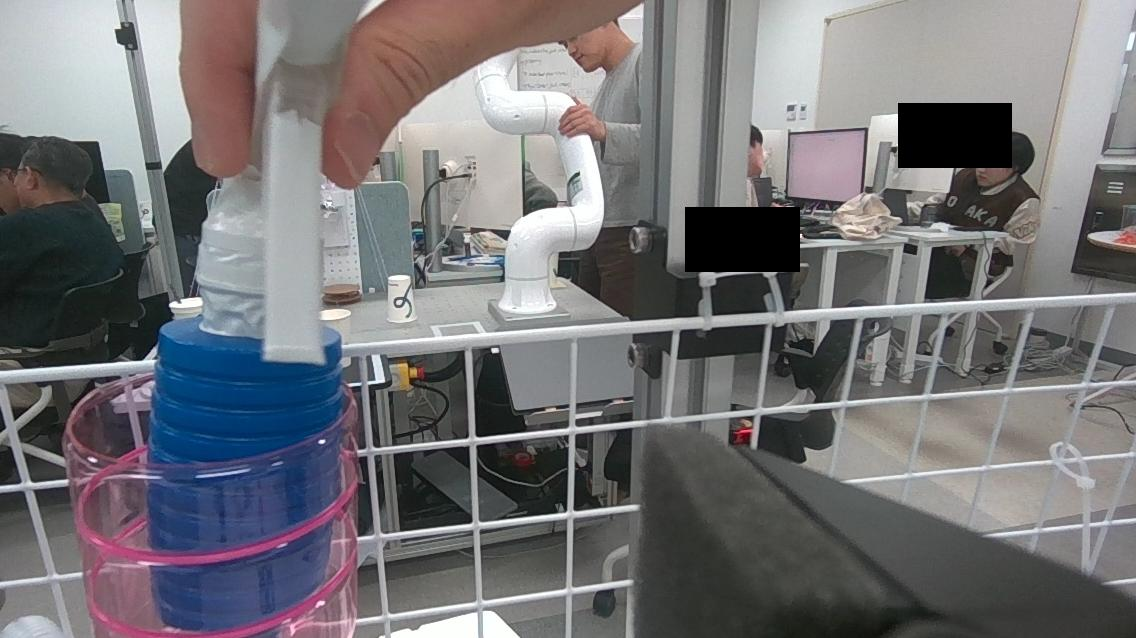Nozzle: (194, 0, 417, 580)
